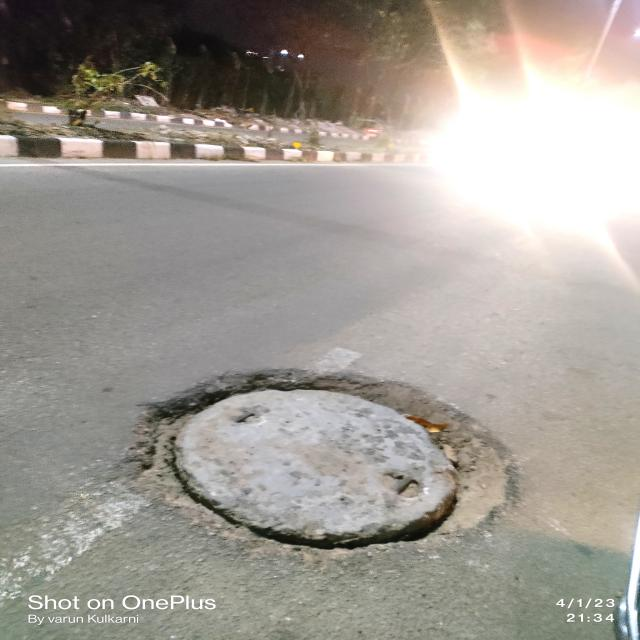manhole: (126, 356, 526, 548)
